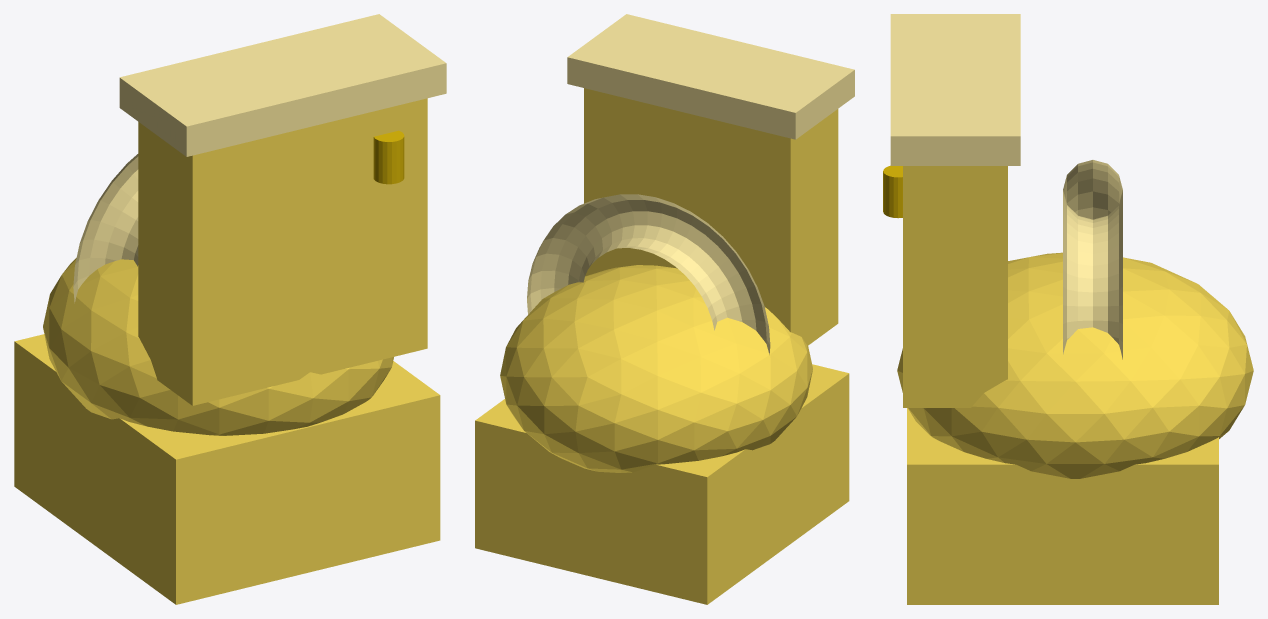
The model's file is treasure_toilet.glb.
3 renders of one model, left to right at view 1: azimuth 30°, elevation 25°; view 2: azimuth 150°, elevation 25°; view 3: azimuth 270°, elevation 25°, orthographic. The views are drawn at different scales.
Parts seen in each view (by area): view 1: Tank, Base, TankLid, Bowl, Seat, Flush; view 2: Base, Bowl, Tank, TankLid, Seat; view 3: Base, Bowl, Tank, TankLid, Seat, Flush.
Part boxes in pixels (x1,y1,x2,y2): Tank: [138, 98, 427, 405]; Base: [14, 334, 440, 604]; TankLid: [119, 14, 446, 156]; Bowl: [43, 258, 393, 435]; Seat: [73, 154, 138, 303]; Flush: [373, 130, 404, 184]; Base: [475, 364, 849, 604]; Bowl: [500, 265, 812, 472]; Tank: [584, 88, 838, 345]; TankLid: [567, 14, 854, 139]; Seat: [527, 194, 770, 354]; Base: [907, 408, 1218, 604]; Bowl: [897, 252, 1253, 478]; Tank: [903, 166, 1007, 407]; TankLid: [890, 14, 1020, 165]; Seat: [1063, 160, 1122, 359]; Flush: [883, 165, 902, 218].
Bounding box in the file's own units: 1.36 × 2.07 × 1.48.
